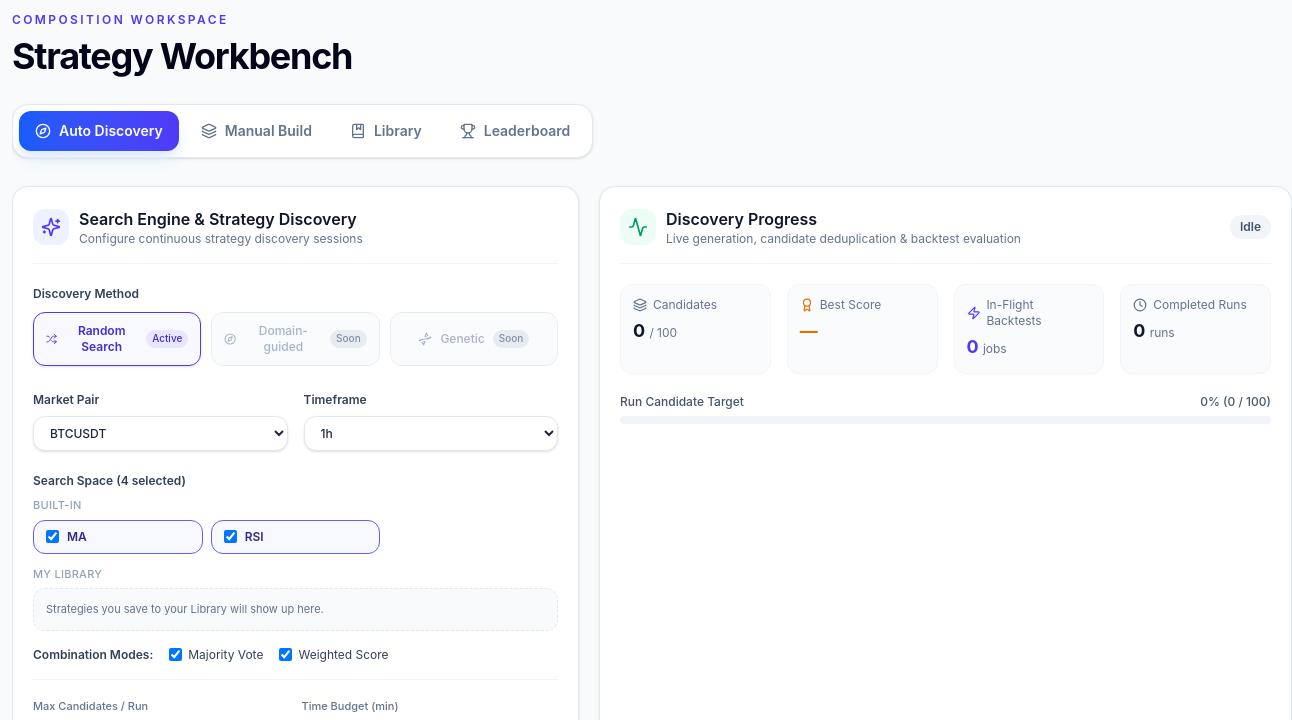
Test: DiscoveryDashboard › lists built-ins read-only under the Library tab
Click the tab "Library" at (386, 131), box [334,111,438,151]
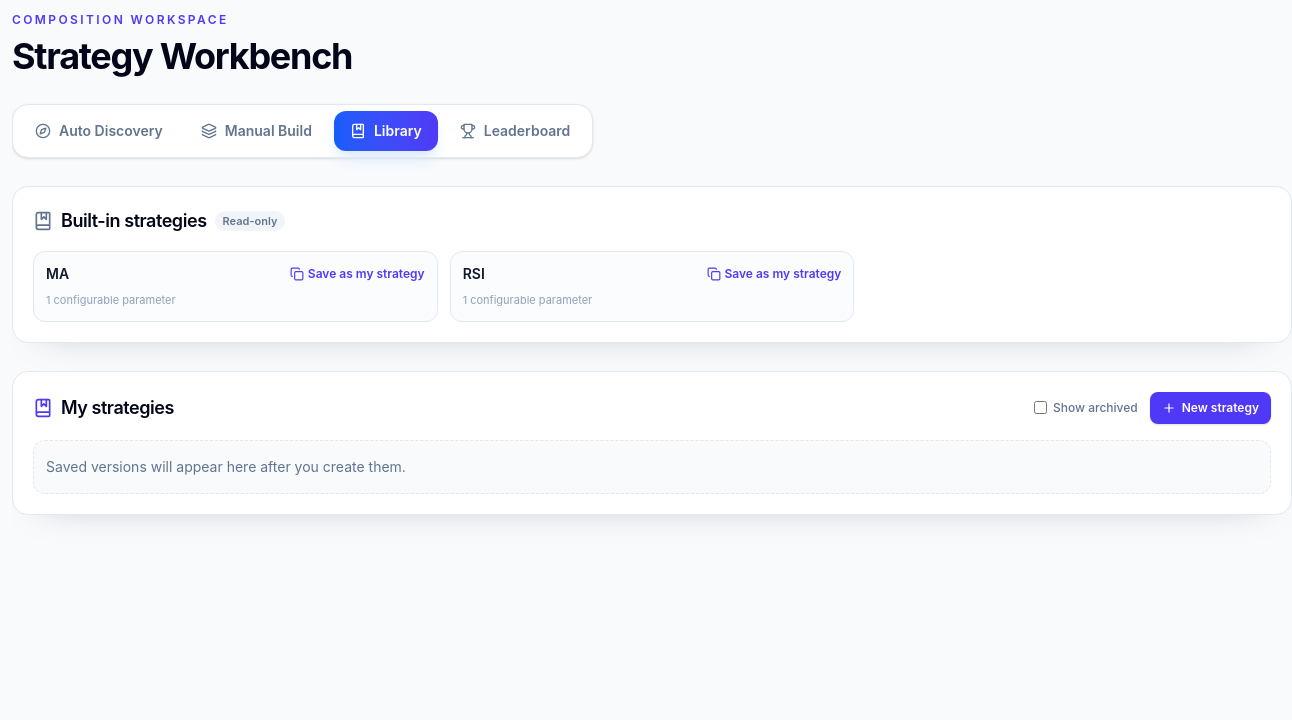
Result: the heading "Built-in strategies" is shown at [61,207,207,235]
Result: the element with test id "saved-strategies-panel" shows "My strategies" at [61,396,174,418]
